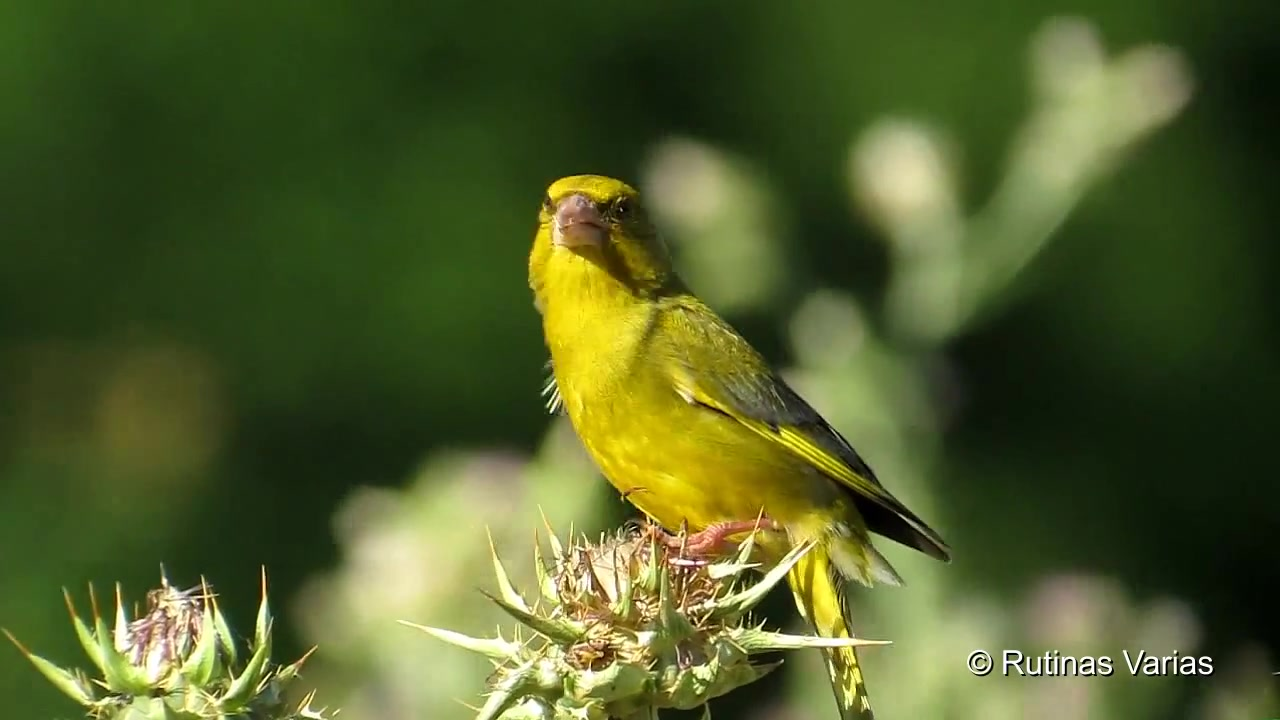bird: (527, 174, 953, 720)
